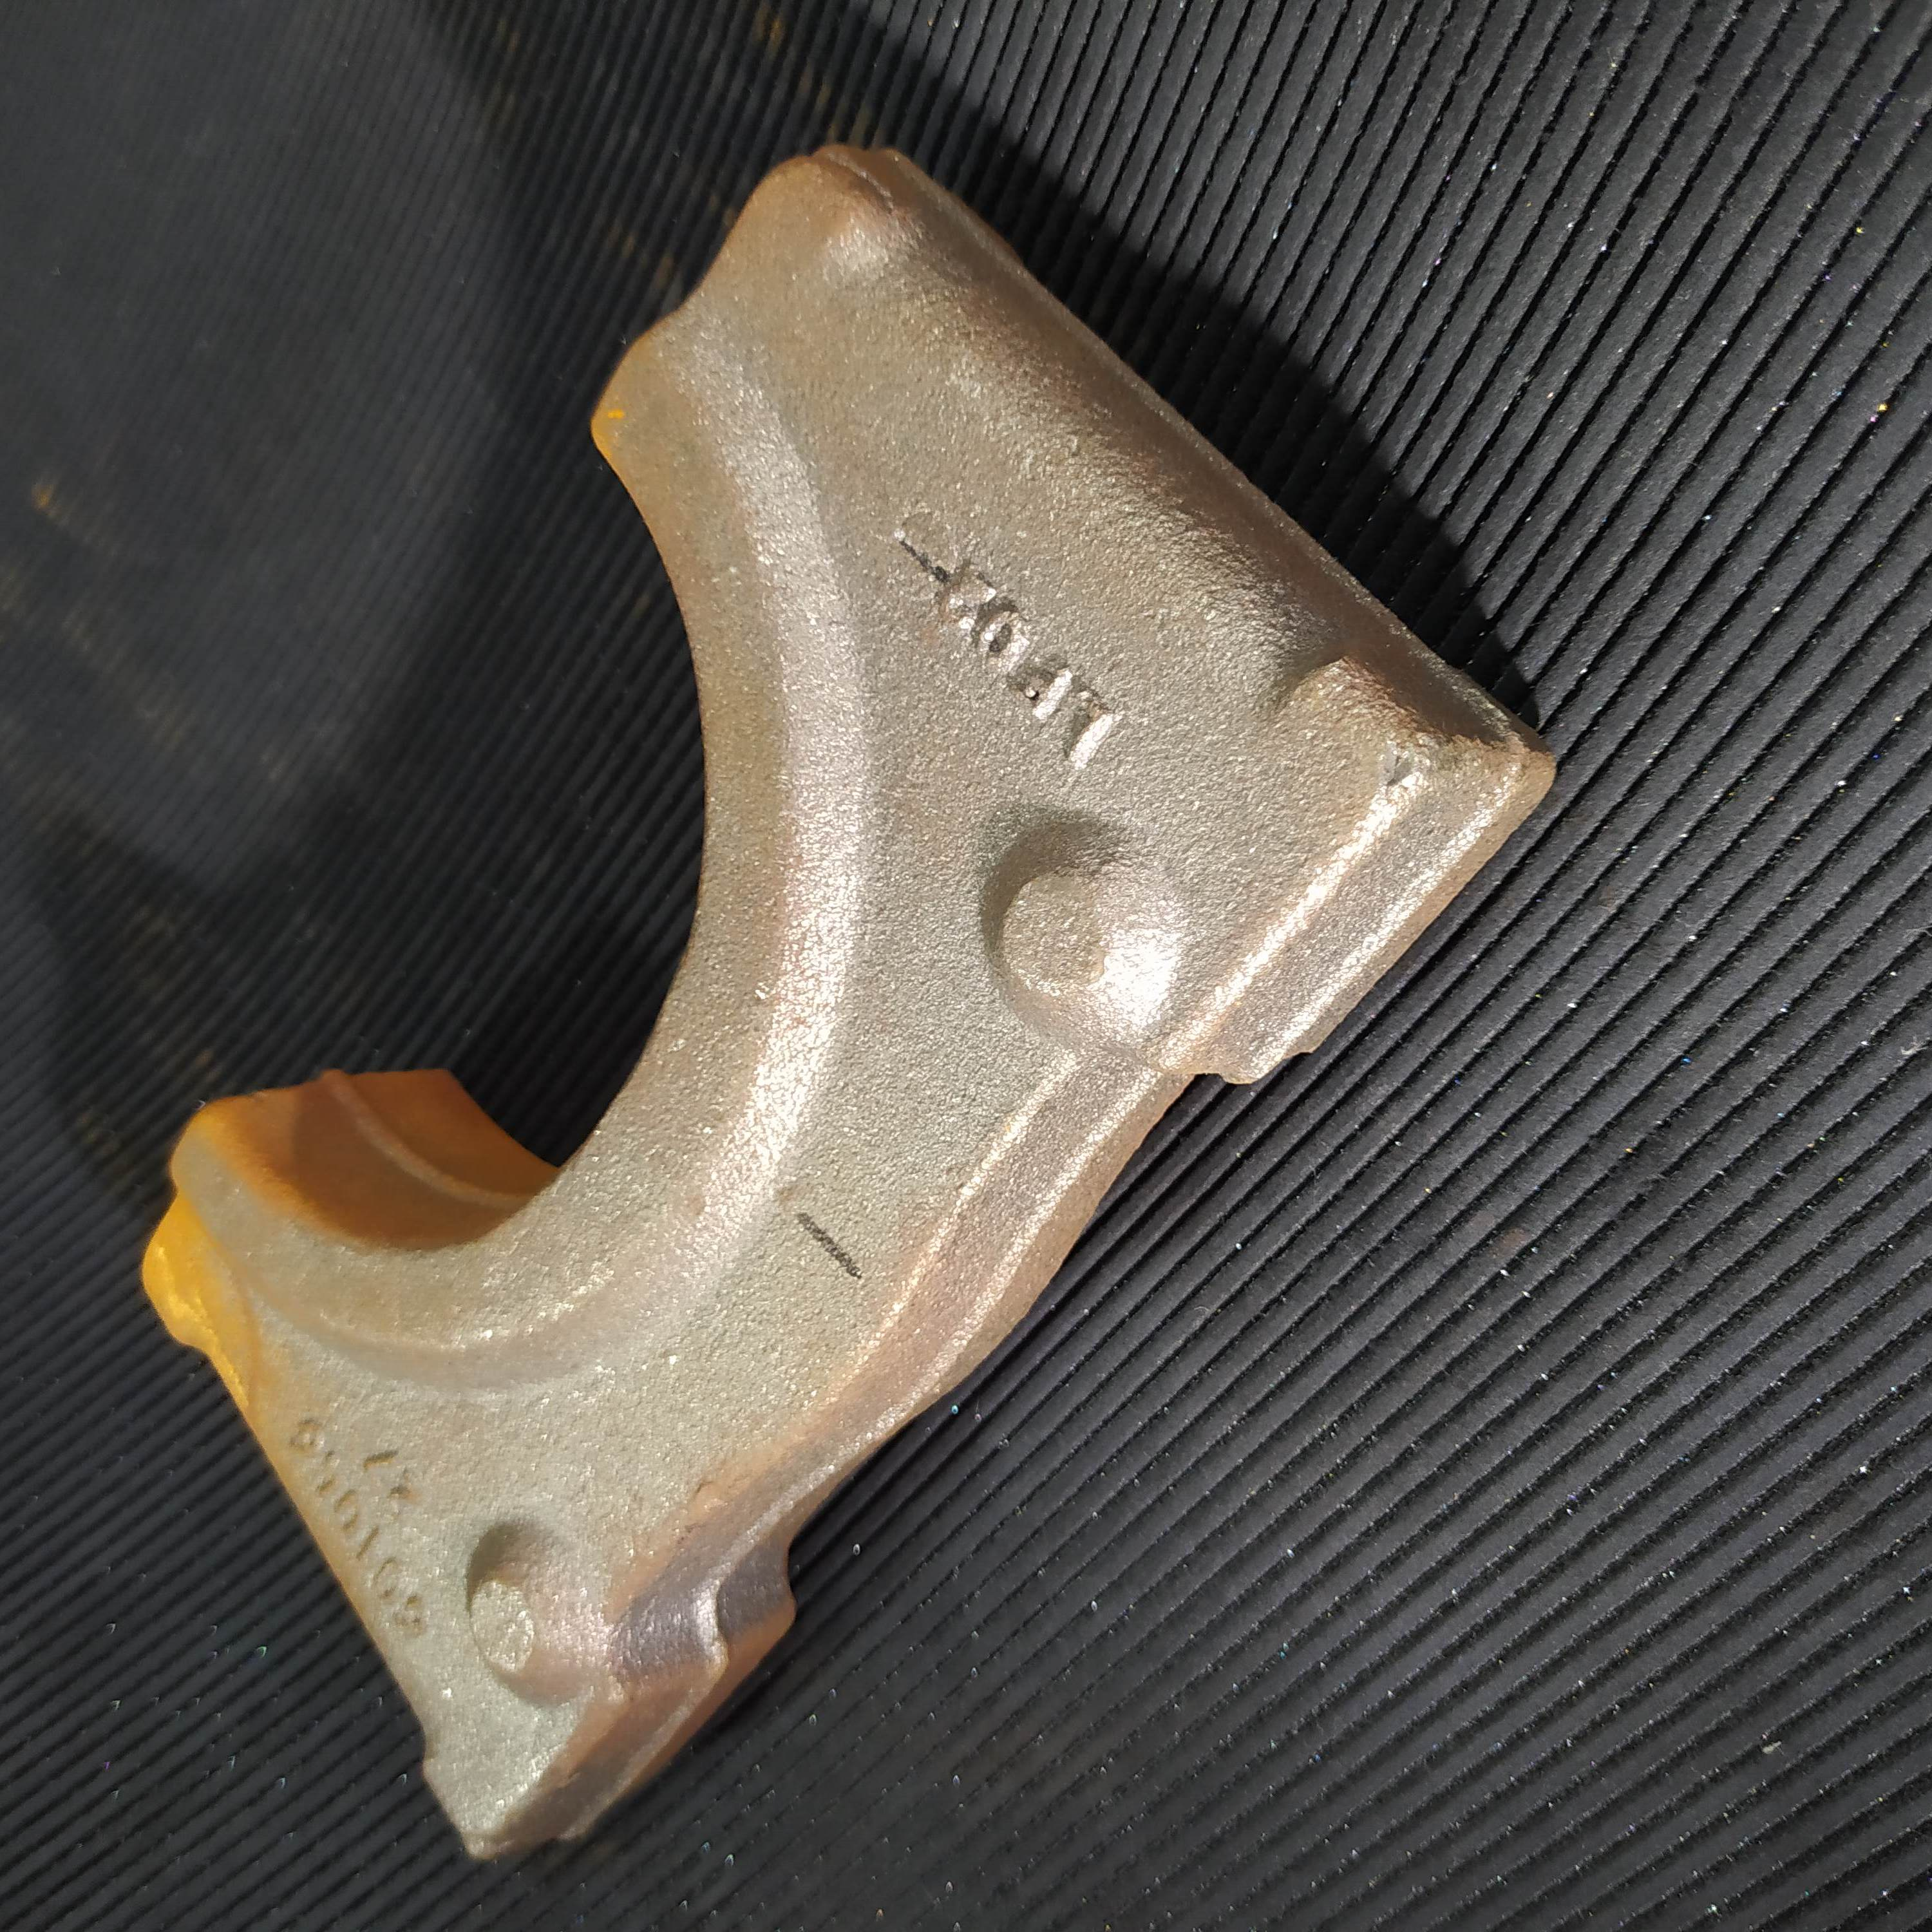rechupe: (809, 145, 892, 209), (1389, 755, 1417, 782)
